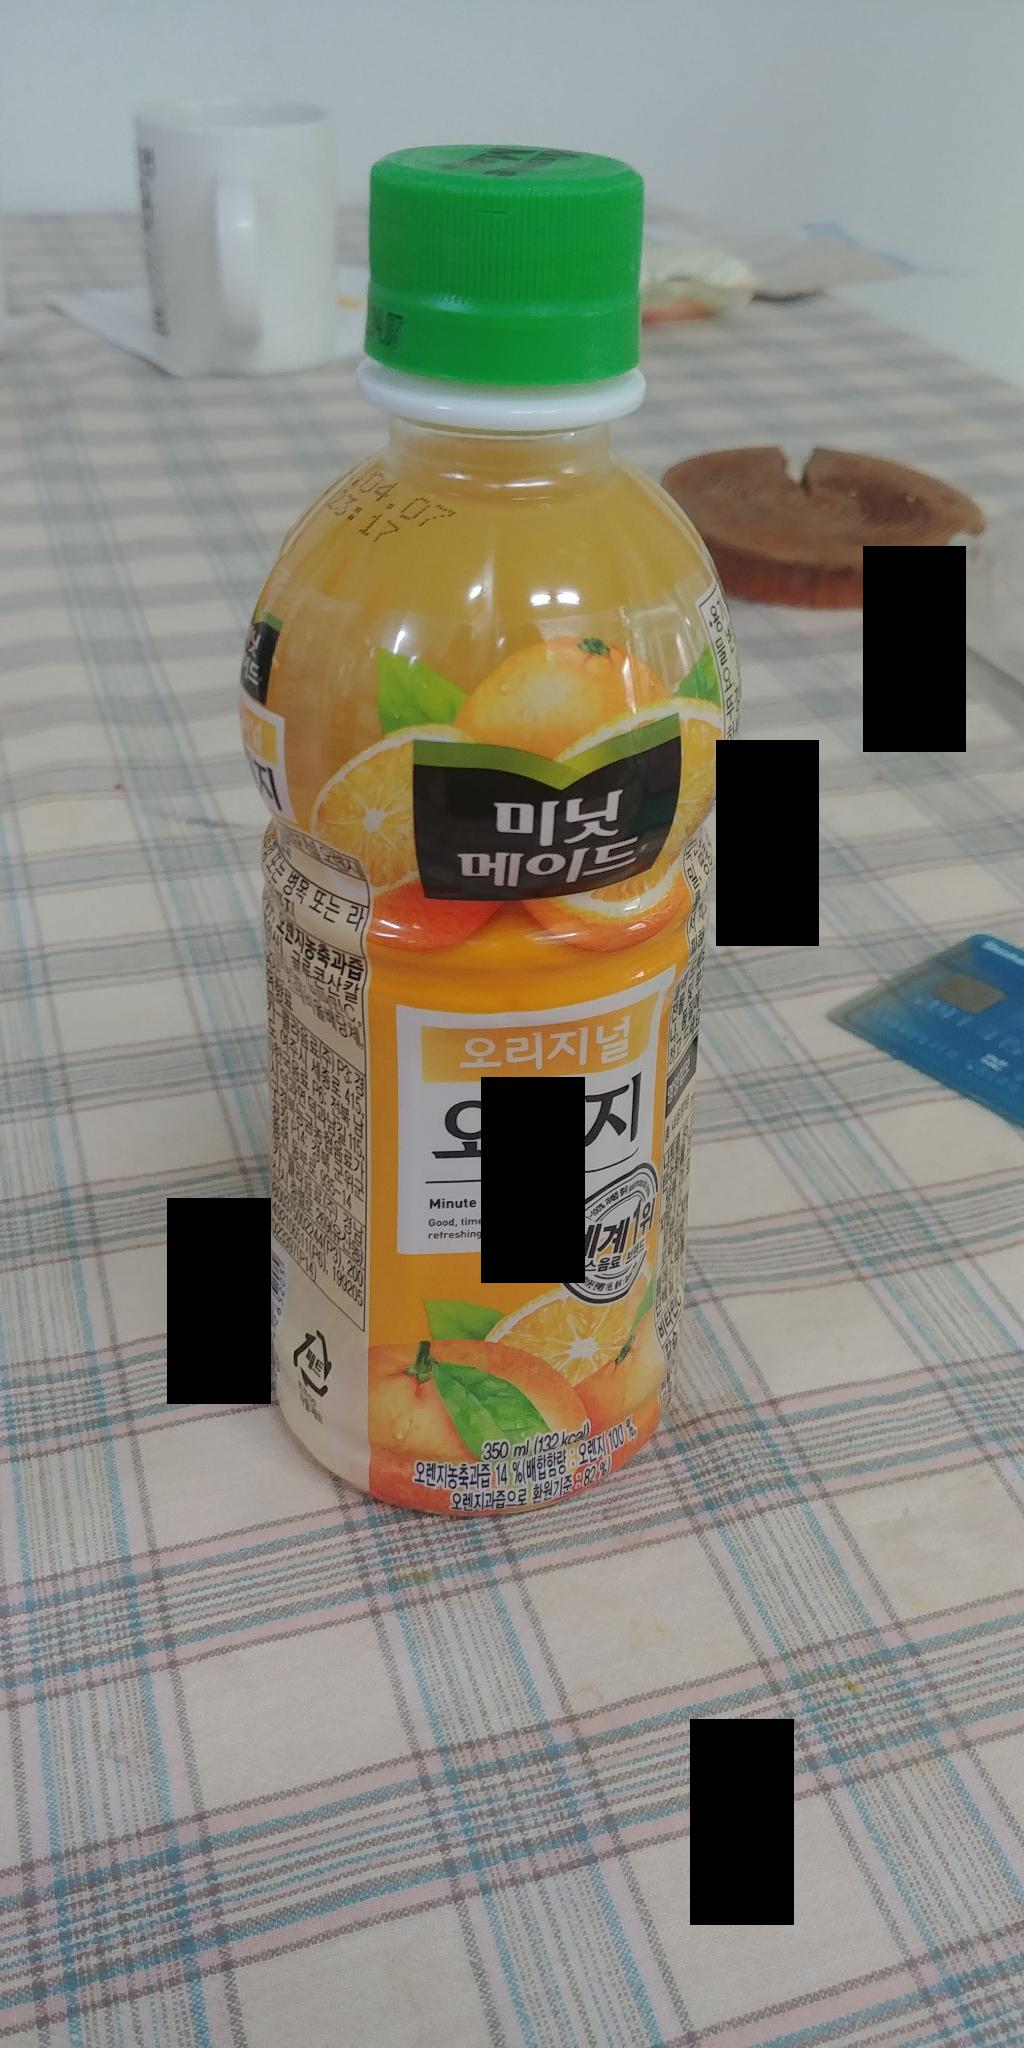minutemaid_org_orange: (229, 118, 722, 1536)
